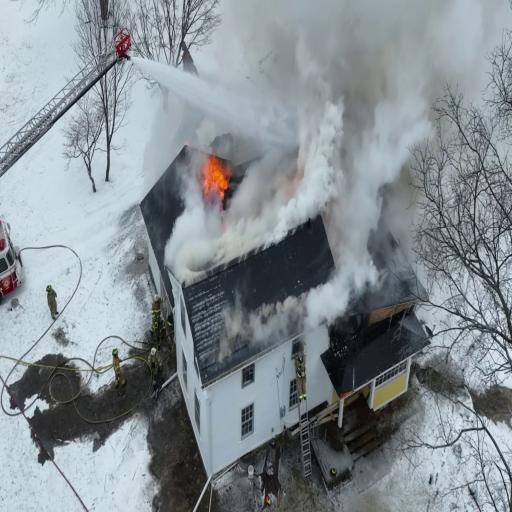fire: (195, 139, 234, 203)
smoke: (260, 13, 389, 154)
